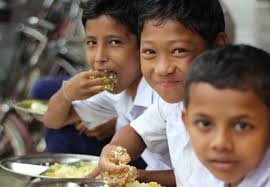student: (184, 54, 270, 180), (138, 4, 230, 103), (79, 5, 142, 94)
